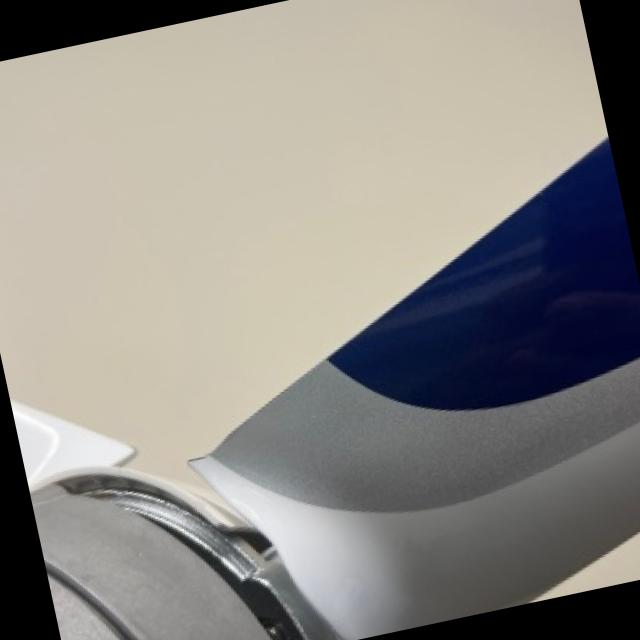healthy: (12, 139, 640, 640)
